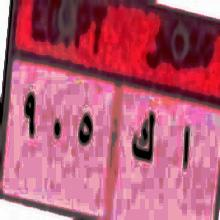0: (51, 108, 64, 152)
5: (78, 107, 97, 160)
9: (21, 86, 38, 147)
alif: (178, 116, 192, 182)
kaaf: (128, 101, 156, 175)
